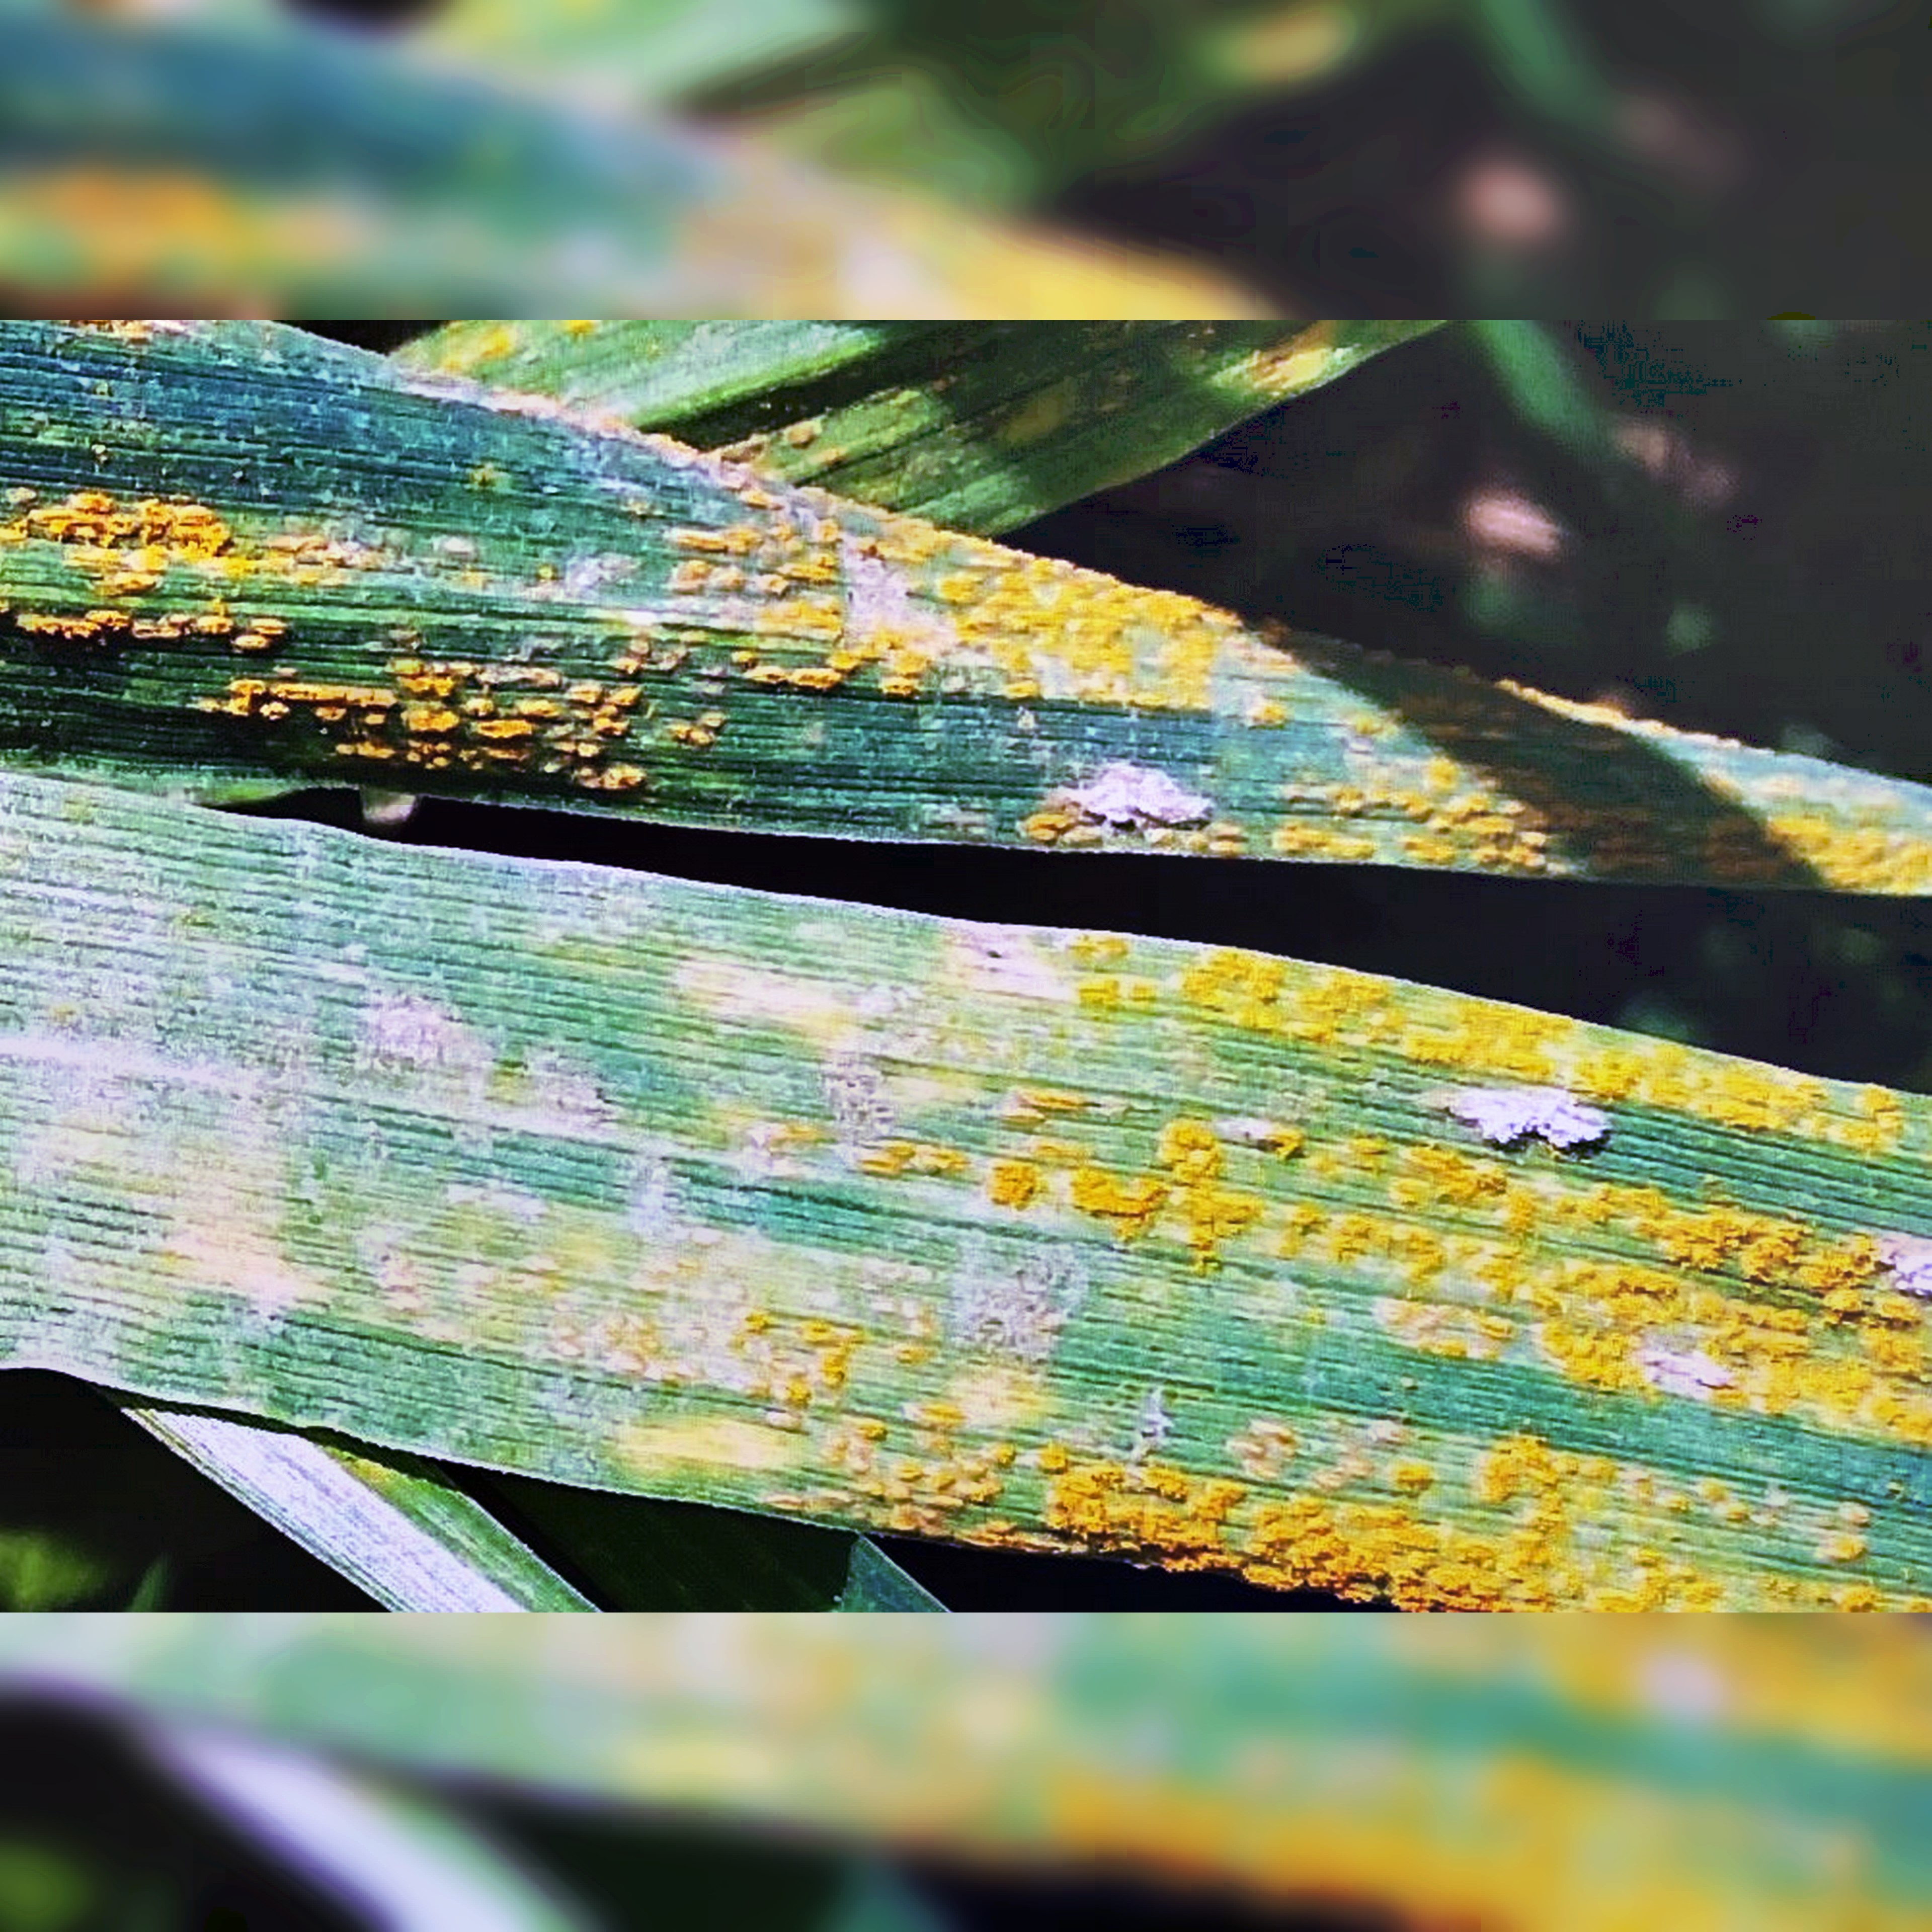Leaf Rust: (639, 842, 1932, 1596)
